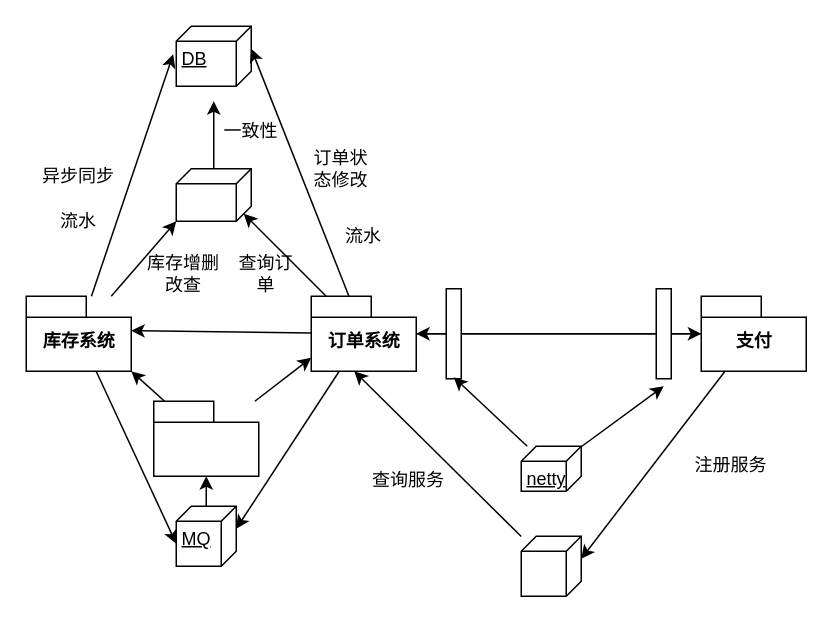
The diagram is 833 pixels wide and 623 high, and some of its shapes have lost their labels. The shapes that lost their labels are listed below. From the top down, each one's centre as x and y in pixels, then its label:
At (213,194): "Redis".
At (205,438): "消息消费".
At (550,565): "Rpc".
